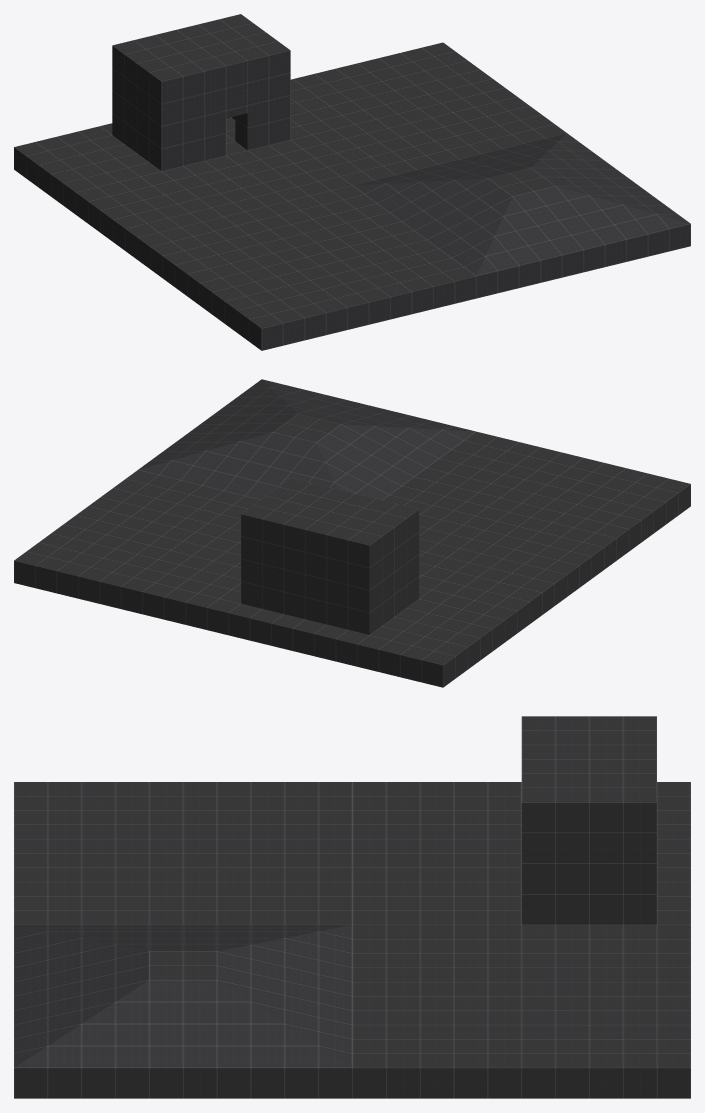
File: testlevel.glb
The picture shows the model from 3 angles, top to bottom: view 1: azimuth 30°, elevation 25°; view 2: azimuth 150°, elevation 25°; view 3: azimuth 270°, elevation 25°; orthographic projection. The views are drawn at different scales.
Visible parts, largest first — view 1: Platform, Haus; view 2: Platform, Haus; view 3: Platform, Haus.
Boxes of the visible parts, x1,y1,x2,y2 form: Platform: (14, 42, 690, 350); Haus: (112, 14, 290, 171); Platform: (14, 379, 690, 687); Haus: (241, 478, 419, 635); Platform: (14, 782, 690, 1098); Haus: (521, 716, 656, 924).
Size of the model in its own units: 20 by 5 by 20.
Materials: 1 (1 with a texture image).
